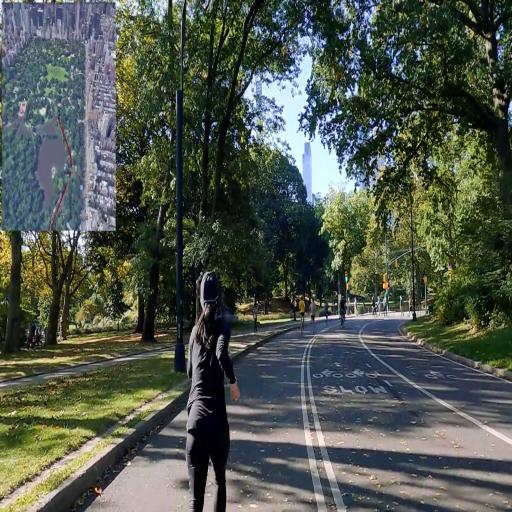Street_Light: (171, 0, 191, 378), (382, 179, 418, 325)
